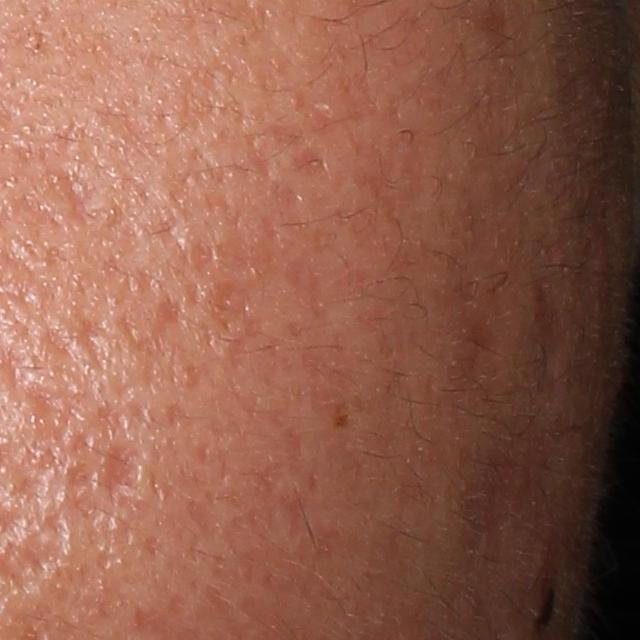atrophic_scar: (523, 273, 571, 385), (122, 298, 183, 378), (97, 438, 145, 515), (52, 164, 107, 228), (72, 316, 108, 374), (293, 147, 327, 175)
